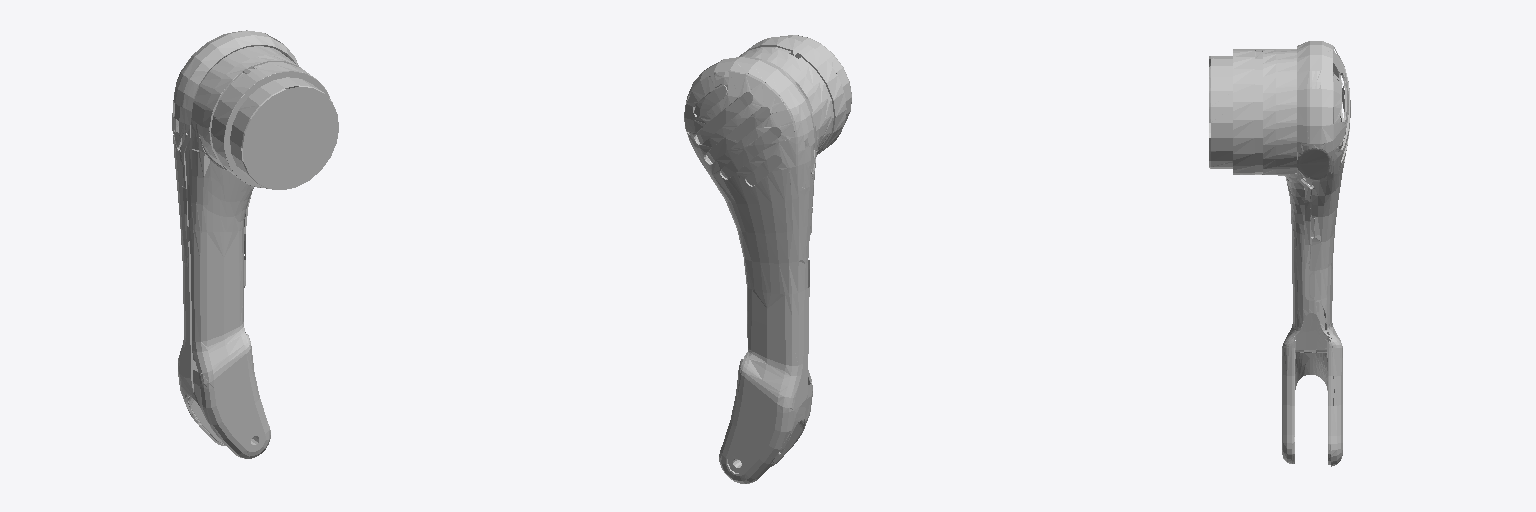
Rendered from FL_thigh.obj.
3 renders of one model, left to right at view 1: azimuth 30°, elevation 25°; view 2: azimuth 150°, elevation 25°; view 3: azimuth 270°, elevation 25°, orthographic.
Visible parts, largest first — view 1: object23_045-mesh; view 2: object23_045-mesh; view 3: object23_045-mesh.
Boxes of the visible parts, x1,y1,x2,y2 form: object23_045-mesh: [172, 30, 338, 458]; object23_045-mesh: [684, 35, 851, 483]; object23_045-mesh: [1209, 41, 1350, 466].
Size of the model in its own units: 0.1385 by 0.4434 by 0.1364.